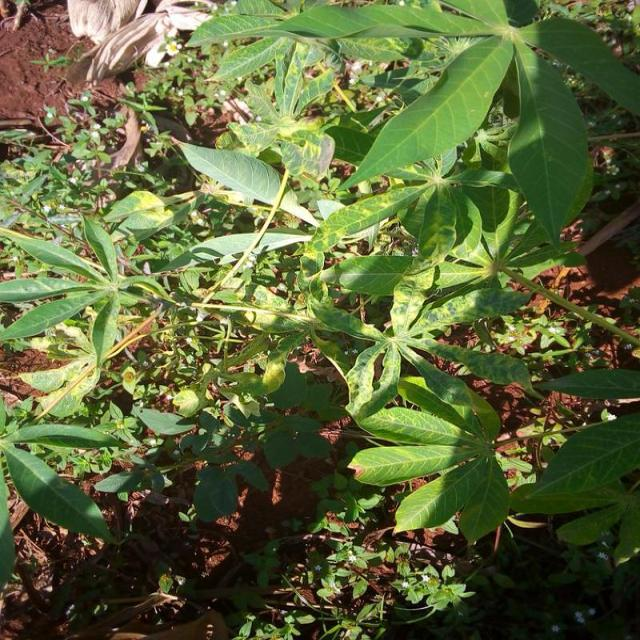cassava leaf: (338, 32, 516, 192), (507, 37, 595, 250)
